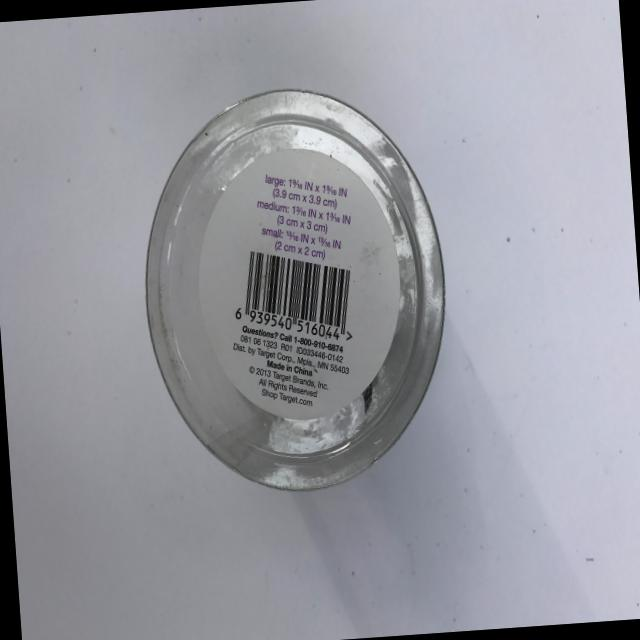Plastic: (102, 57, 486, 540)
